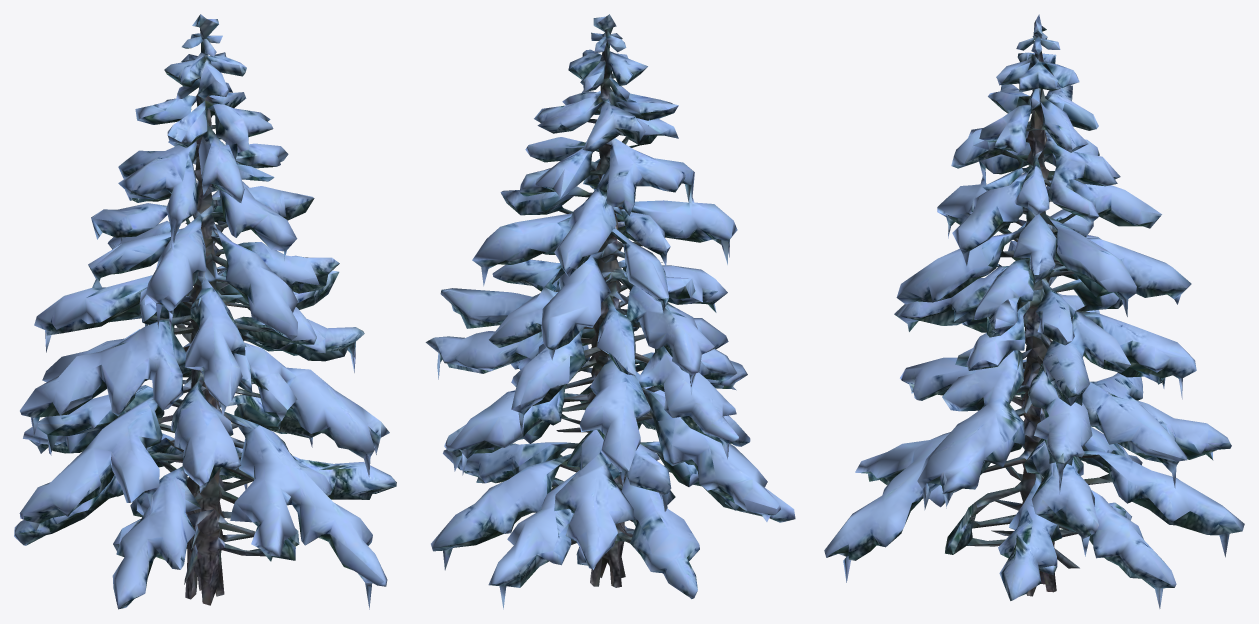
File: pinheiro_neve.glb
3 views of the same model, side by side, from view 1: azimuth 30°, elevation 25°; view 2: azimuth 150°, elevation 25°; view 3: azimuth 270°, elevation 25° (orthographic). The views are drawn at different scales.
Visible parts, largest first — view 1: pinheiro_neve; view 2: pinheiro_neve; view 3: pinheiro_neve.
Boxes of the visible parts, x1,y1,x2,y2 form: pinheiro_neve: (14, 14, 396, 609); pinheiro_neve: (425, 14, 795, 609); pinheiro_neve: (824, 14, 1244, 608).
Size of the model in its own units: 7.1 by 11 by 7.28.
Materials: 1 (1 with a texture image).
